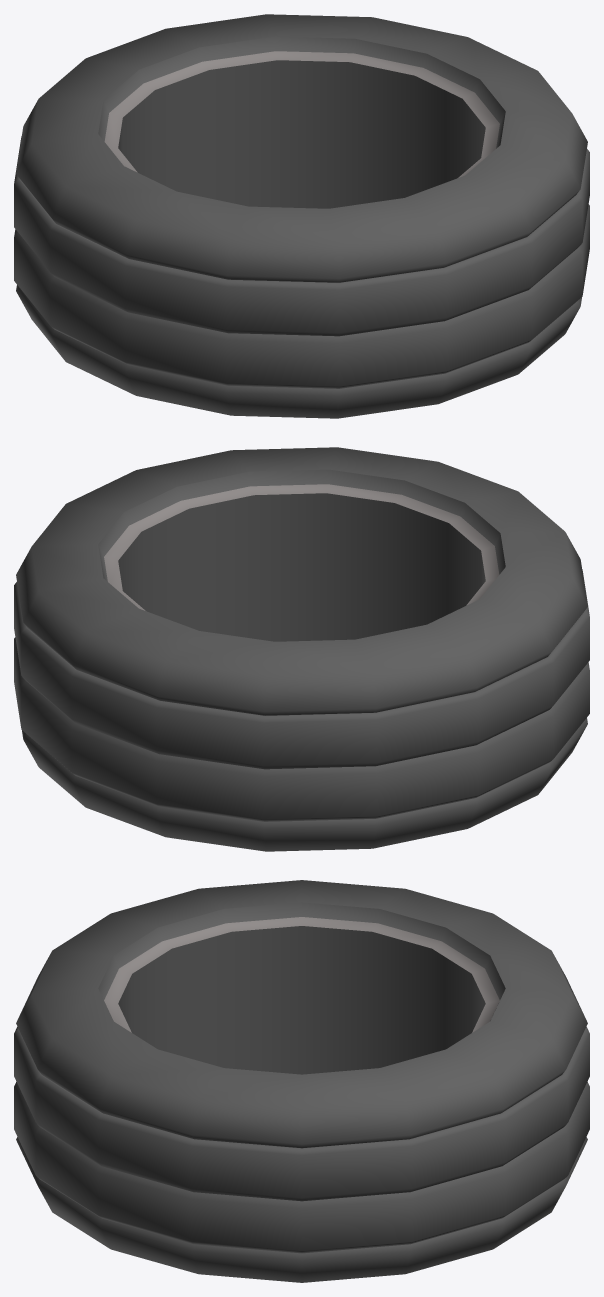
File: Wheel-transformed.glb
3 views of the same model, one above another, from view 1: azimuth 30°, elevation 25°; view 2: azimuth 150°, elevation 25°; view 3: azimuth 270°, elevation 25° (orthographic).
Visible parts, largest first — view 1: Wheel; view 2: Wheel; view 3: Wheel.
Boxes of the visible parts, left/top/right/bottom form: Wheel: left=14, top=14, right=589, bottom=418; Wheel: left=14, top=447, right=589, bottom=851; Wheel: left=14, top=880, right=589, bottom=1282.
Bounding box in the file's own units: 0.573 × 0.2041 × 0.573.
1 material, 1 textured.
